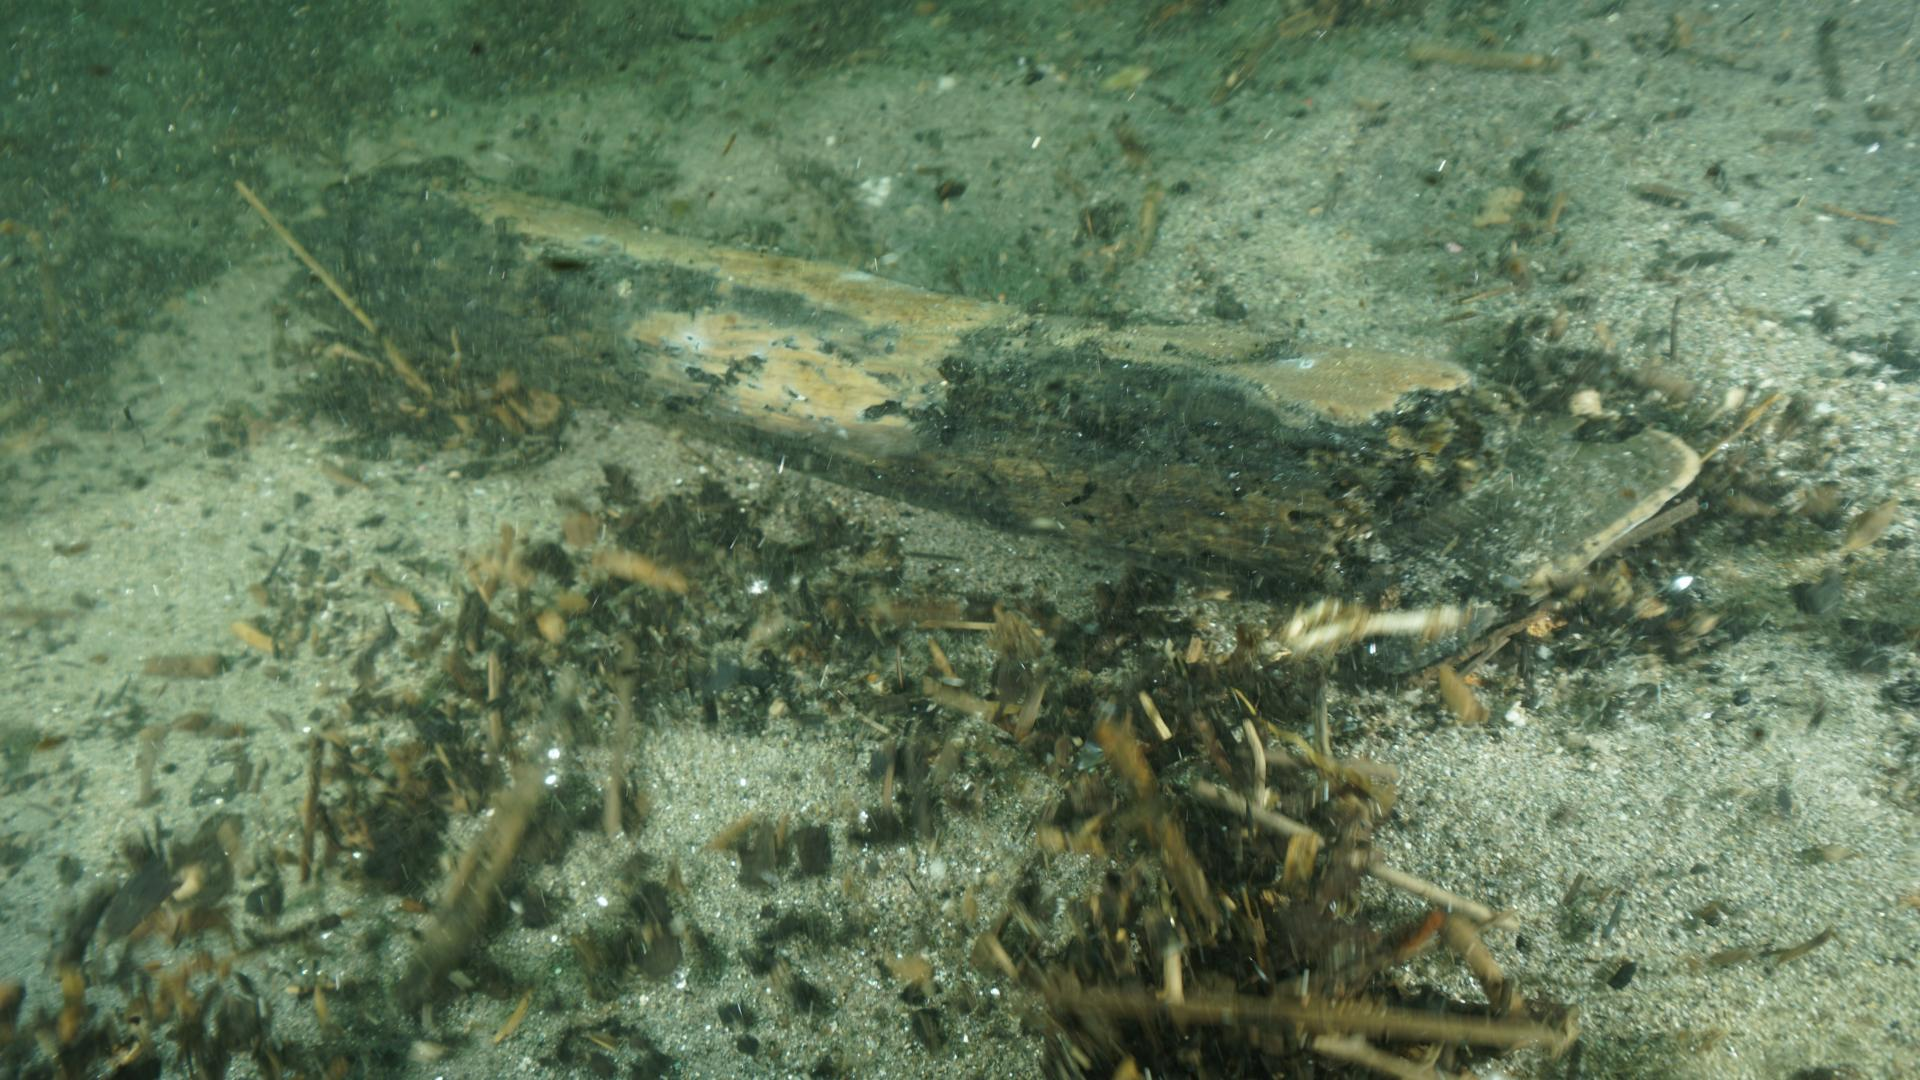wood: (307, 152, 1706, 593)
